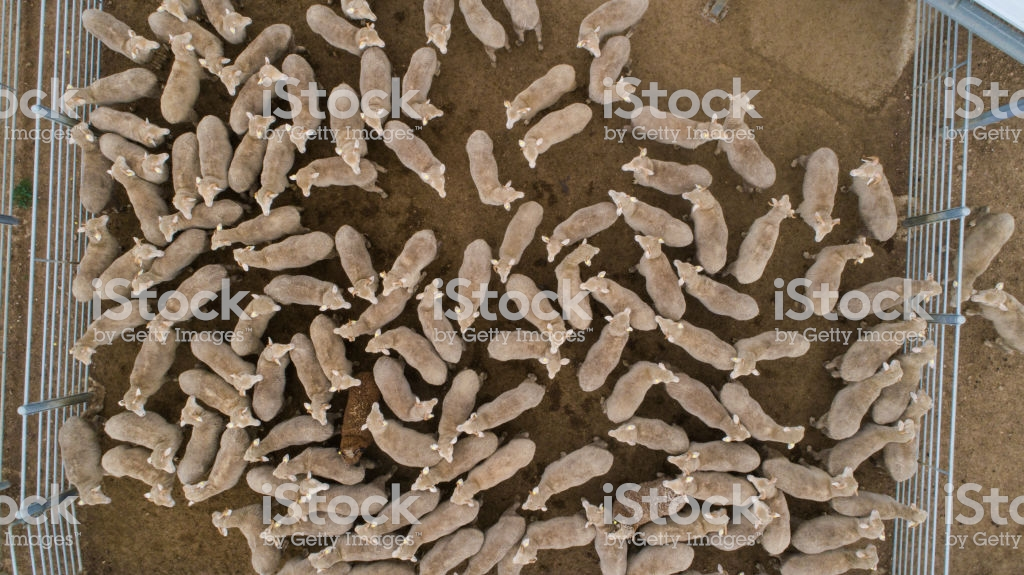sheep: (814, 355, 906, 446), (521, 434, 617, 518), (794, 233, 882, 321), (945, 206, 1020, 308), (667, 356, 751, 445), (724, 190, 800, 286), (105, 154, 181, 247), (455, 367, 550, 440), (450, 432, 536, 510), (713, 94, 778, 191), (217, 21, 298, 97), (677, 257, 760, 331), (65, 297, 149, 370), (841, 154, 906, 247), (63, 209, 129, 300), (361, 398, 449, 466), (118, 321, 183, 413), (184, 425, 254, 510), (721, 378, 807, 447), (174, 362, 258, 432), (649, 310, 743, 372), (629, 228, 691, 322), (602, 355, 679, 430), (380, 114, 450, 196), (57, 61, 162, 115), (97, 442, 181, 509), (460, 122, 527, 204), (577, 304, 636, 395), (789, 144, 842, 245), (209, 502, 282, 575), (519, 100, 593, 172), (512, 509, 600, 569), (625, 99, 728, 150), (365, 327, 448, 390), (101, 409, 182, 471), (78, 4, 160, 65), (285, 148, 385, 198), (432, 365, 482, 464), (618, 145, 713, 197), (489, 198, 545, 286), (94, 236, 167, 303), (60, 415, 112, 509), (82, 101, 176, 153), (209, 202, 313, 248), (287, 331, 337, 426), (224, 111, 278, 198), (306, 527, 403, 575), (792, 506, 889, 554), (303, 1, 386, 57), (235, 229, 336, 275), (158, 25, 204, 125), (575, 1, 659, 55), (380, 227, 440, 302), (775, 535, 882, 575), (398, 43, 450, 125), (172, 398, 224, 477), (972, 279, 1024, 358), (759, 457, 862, 496), (455, 1, 513, 68), (253, 335, 294, 427), (455, 1, 520, 58), (234, 291, 285, 358), (265, 270, 347, 309), (626, 534, 695, 575)
